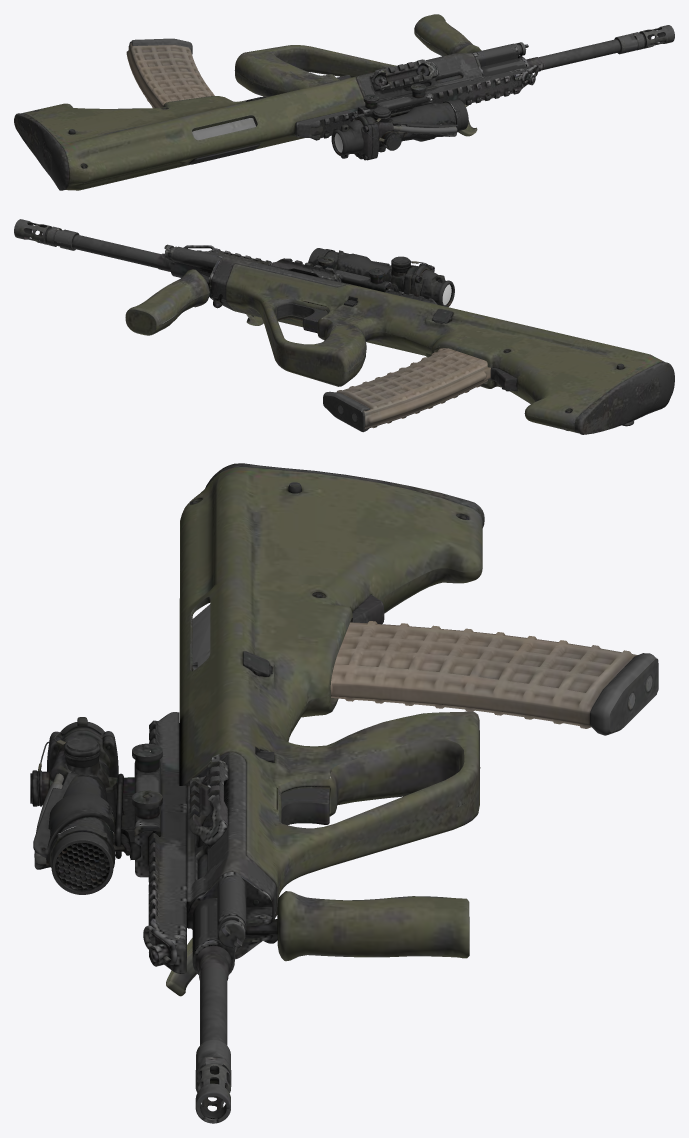
The model's file is w_aug.glb.
The picture shows the model from 3 angles, top to bottom: view 1: azimuth 30°, elevation 25°; view 2: azimuth 150°, elevation 25°; view 3: azimuth 270°, elevation 25°; orthographic projection. The views are drawn at different scales.
Parts seen in each view (by area): view 1: w_aug; view 2: w_aug; view 3: w_aug.
Part boxes in pixels (x1,y1,x2,y2): w_aug: [14, 14, 674, 190]; w_aug: [14, 219, 674, 434]; w_aug: [30, 463, 658, 1123].
Size of the model in its own units: 0.9465 by 0.1174 by 0.4228.
Materials: 3 (3 with a texture image).
